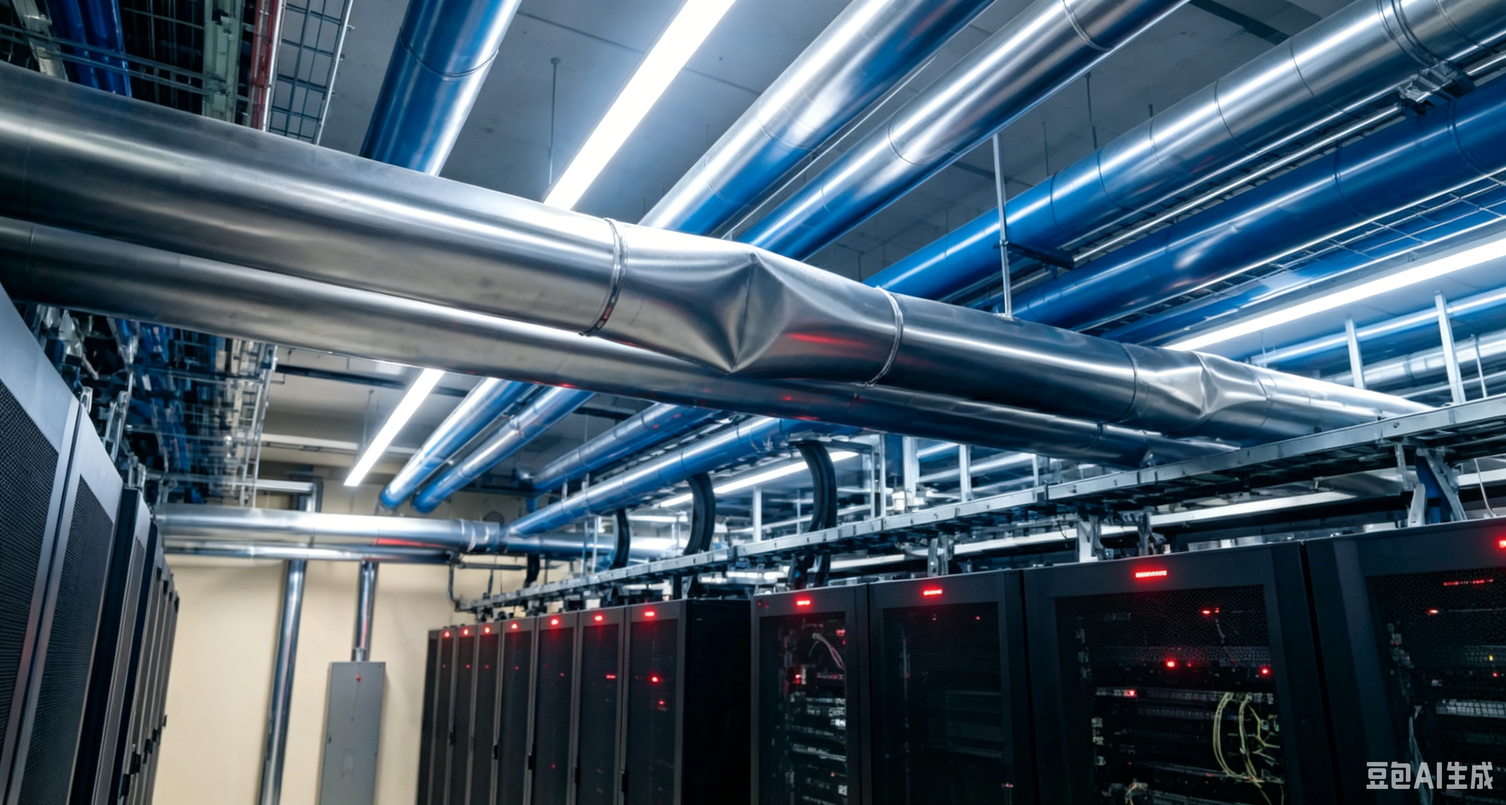Leakage: (689, 234, 838, 368), (1161, 355, 1254, 414)
